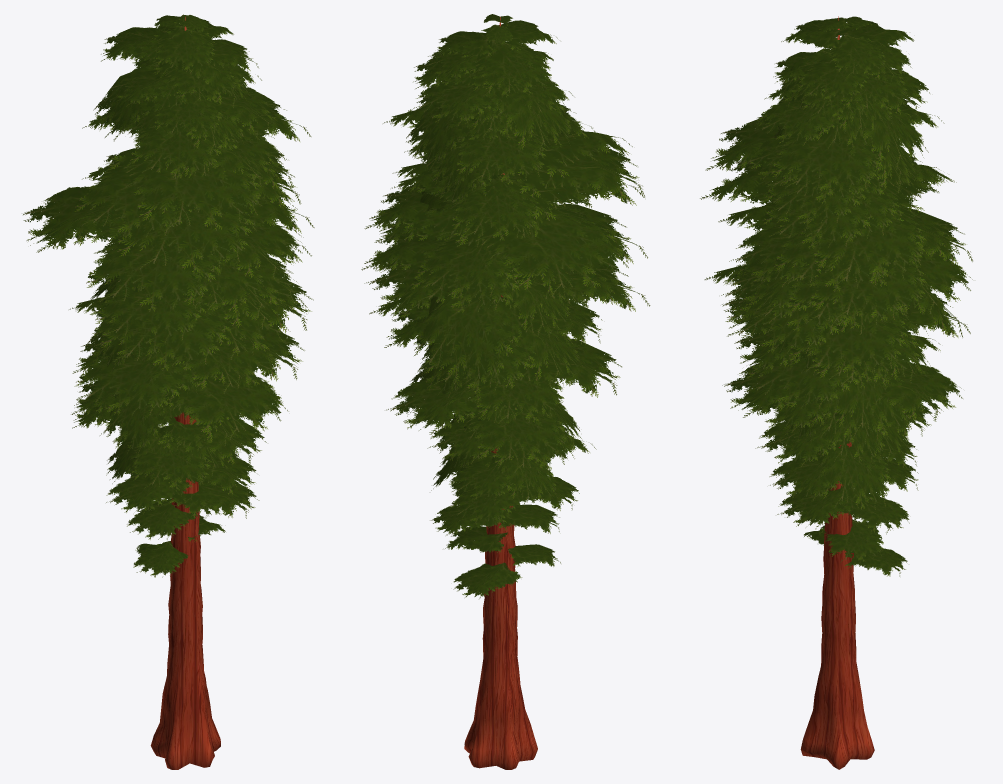
The model's file is sequoia_g3.gltf.
3 views of the same model, side by side, from view 1: azimuth 30°, elevation 25°; view 2: azimuth 150°, elevation 25°; view 3: azimuth 270°, elevation 25° (orthographic).
Parts seen in each view (by area): view 1: sequoia_g3; view 2: sequoia_g3; view 3: sequoia_g3.
Boxes of the visible parts, box(x1,y1,x2,y2) form: sequoia_g3: box(23, 14, 314, 769); sequoia_g3: box(361, 14, 650, 769); sequoia_g3: box(700, 16, 972, 769).
Size of the model in its own units: 9.1 by 24 by 8.83.
2 materials, 2 textured.
